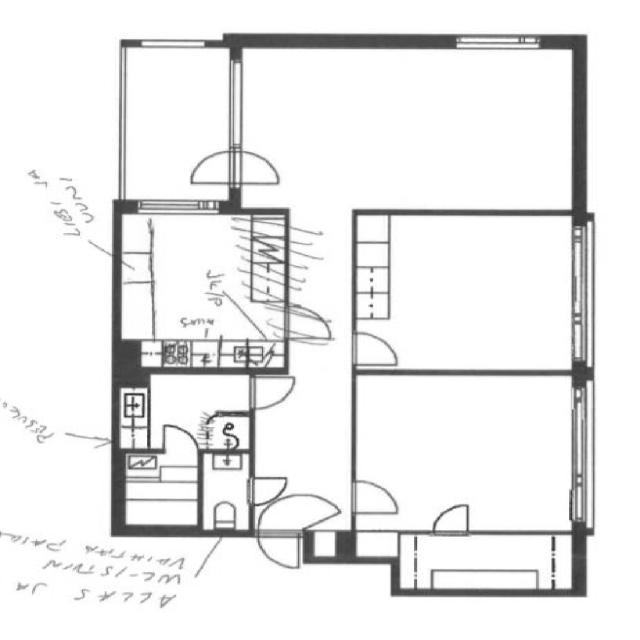door: (251, 482, 338, 568), (188, 146, 284, 192), (238, 365, 298, 413), (422, 494, 477, 540), (343, 478, 403, 520), (347, 326, 403, 369), (149, 423, 209, 457), (248, 472, 294, 504)
window: (557, 374, 622, 540), (556, 205, 610, 373), (108, 189, 229, 221), (223, 47, 255, 154), (442, 27, 548, 58)
zone: (240, 45, 586, 210), (356, 362, 587, 532), (353, 204, 580, 371), (111, 204, 285, 369), (372, 532, 587, 595), (107, 368, 256, 453), (115, 449, 198, 533), (196, 447, 248, 534)
